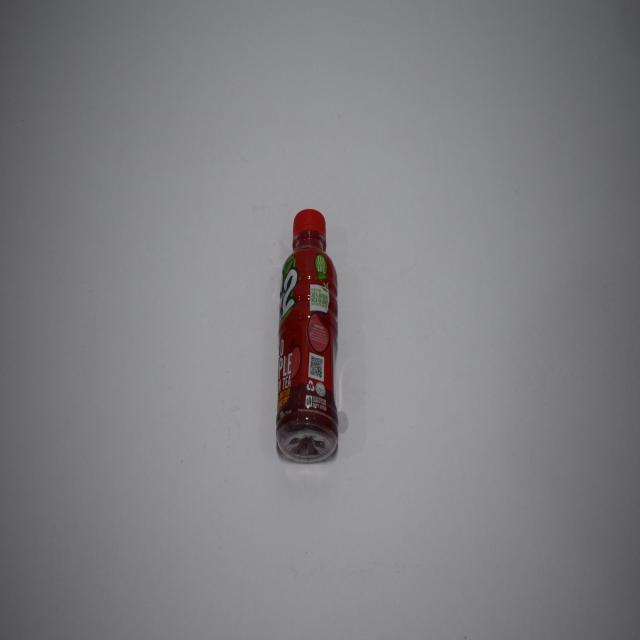bottle: (270, 203, 348, 468)
